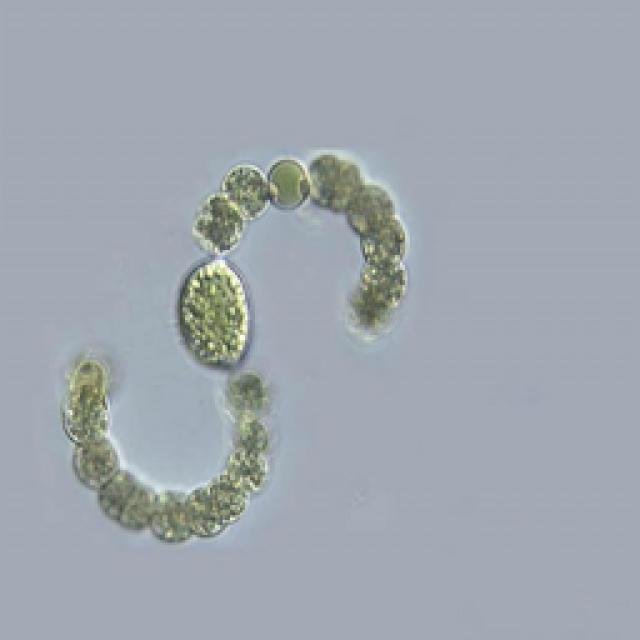Anabaena: (61, 151, 418, 551)
